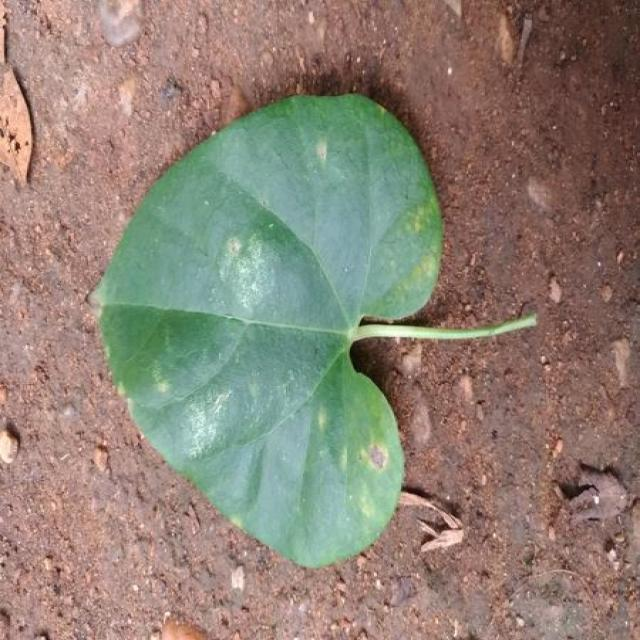Amruthaballi: (97, 95, 442, 566)
